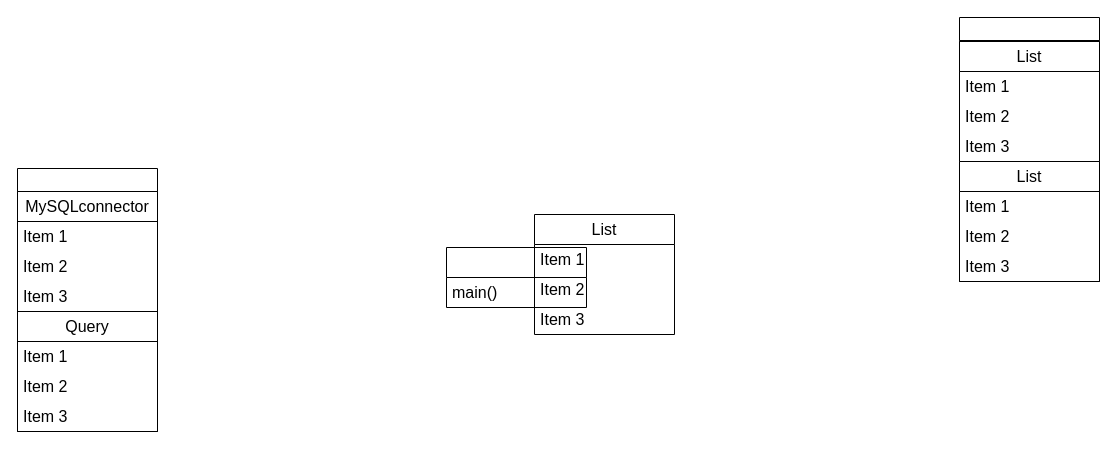
Image size: 1117x449. Some labels were removed from this diagram. The box of each missing label's shape, as (x1, y1, x2, y2) in pixels:
BankMain: (446, 246, 586, 308)
DB: (16, 168, 158, 432)
DTO: (958, 16, 1100, 282)
